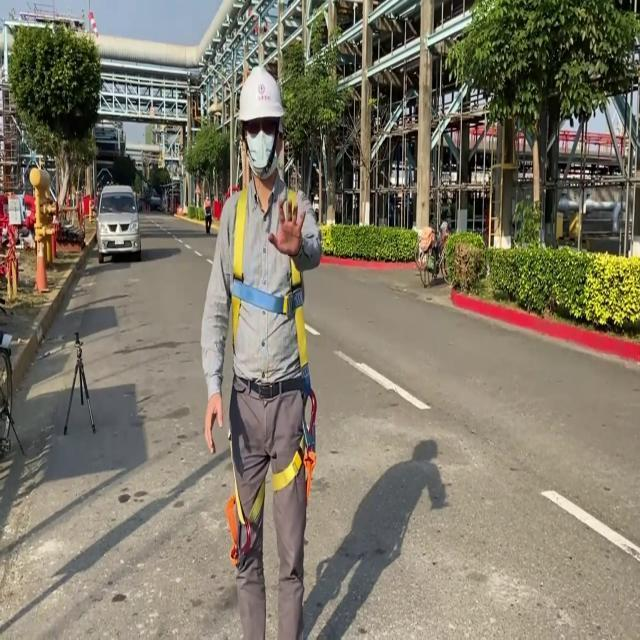Harness: (230, 188, 308, 370), (272, 388, 318, 498), (225, 482, 264, 568)
